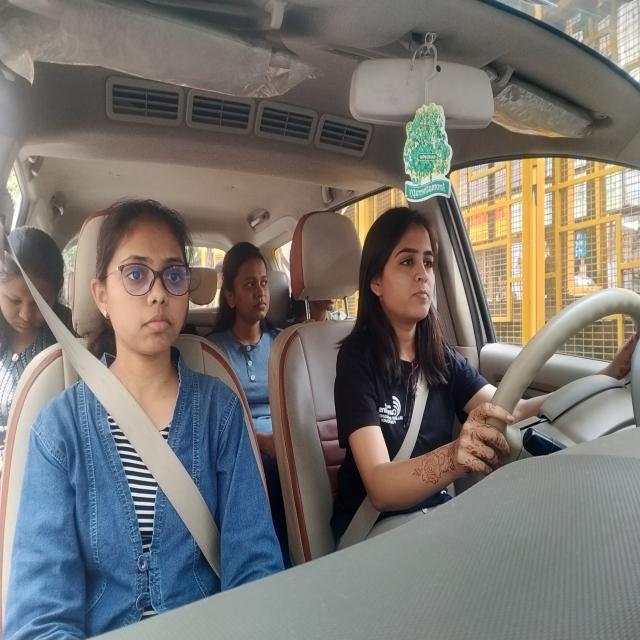person: (100, 194, 198, 347), (360, 213, 437, 318), (7, 246, 62, 337), (227, 238, 274, 326)
